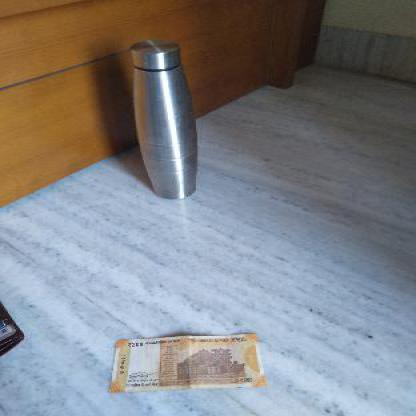New200Back: (115, 335, 268, 391)
